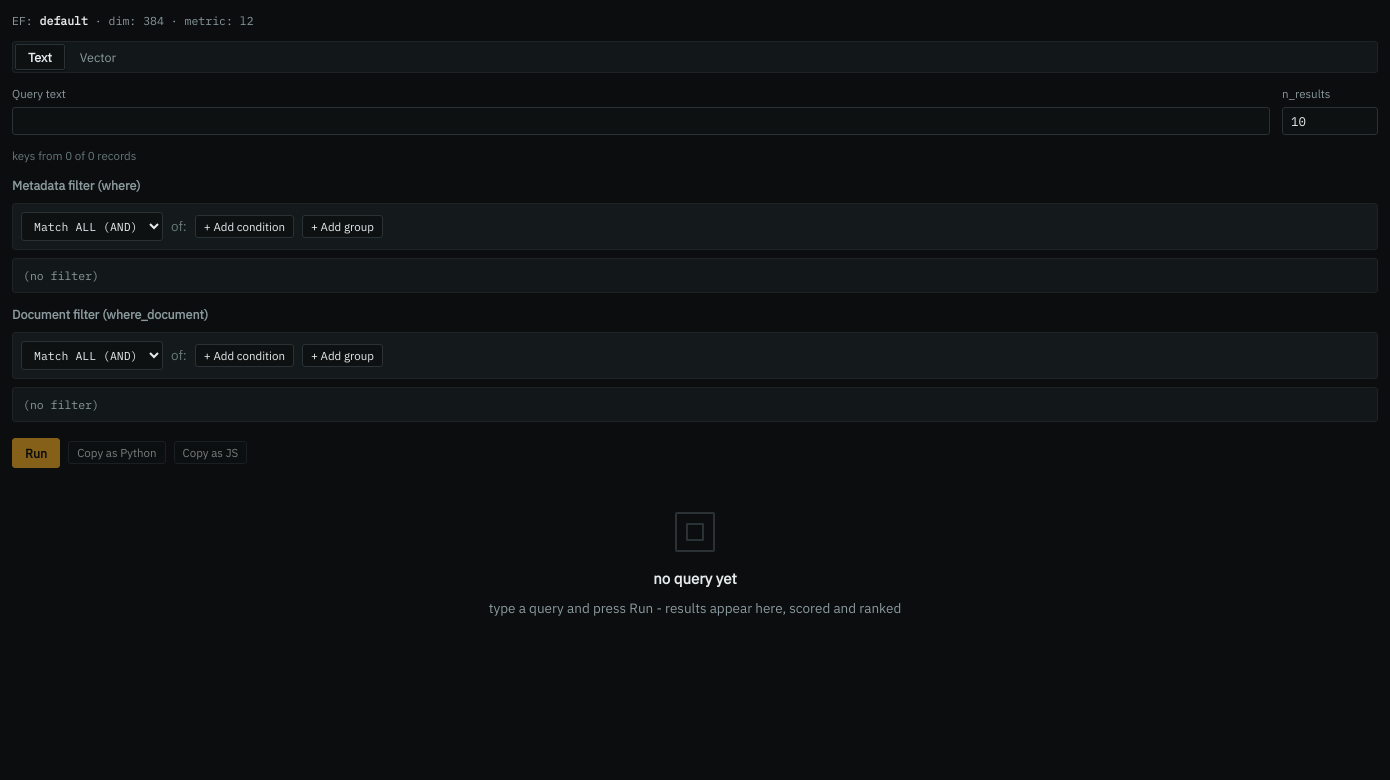
Test case: interprets a dimension-mismatch query error
Type "hello" into the field labelled "Query text".
click(641, 120); type("hello")  # box [12,106,1270,134]
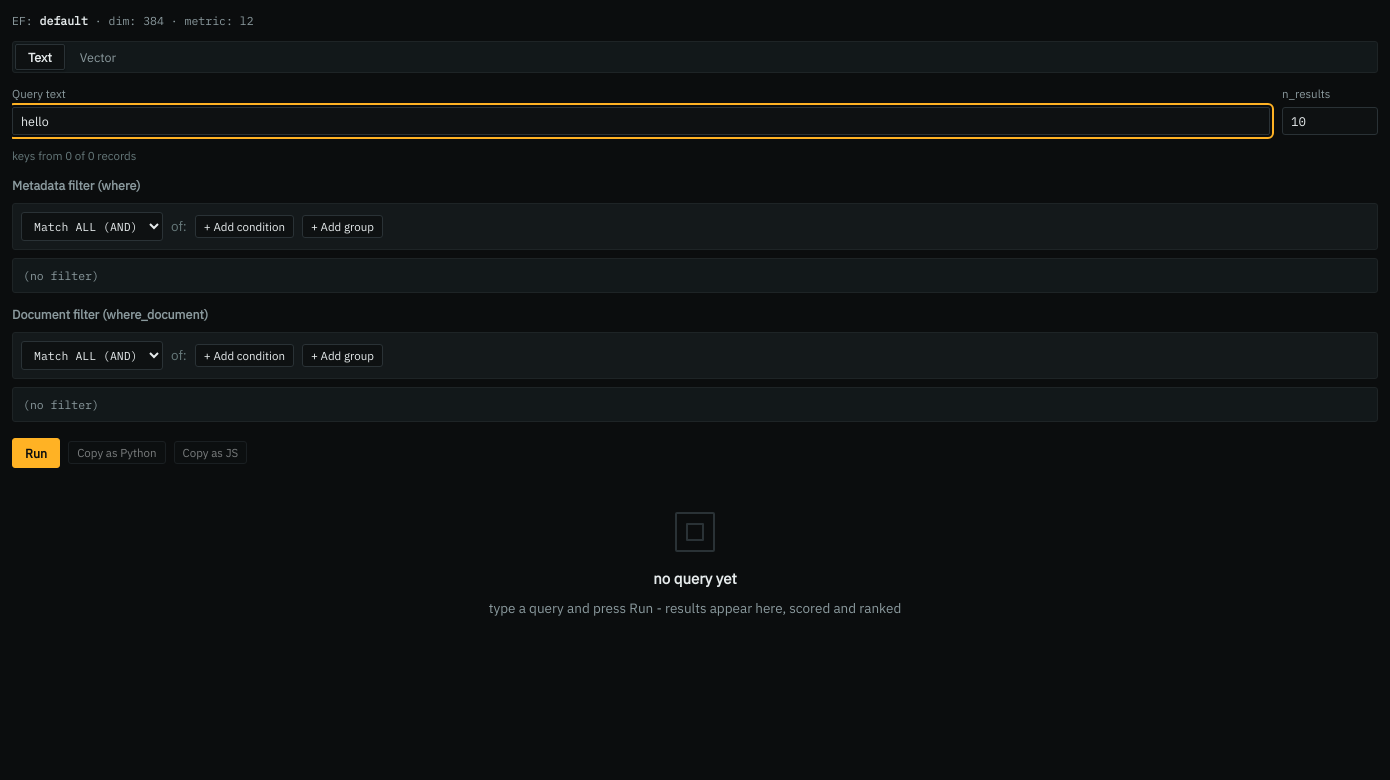
Click the button "Run".
click(36, 453)  # box [12,438,60,468]
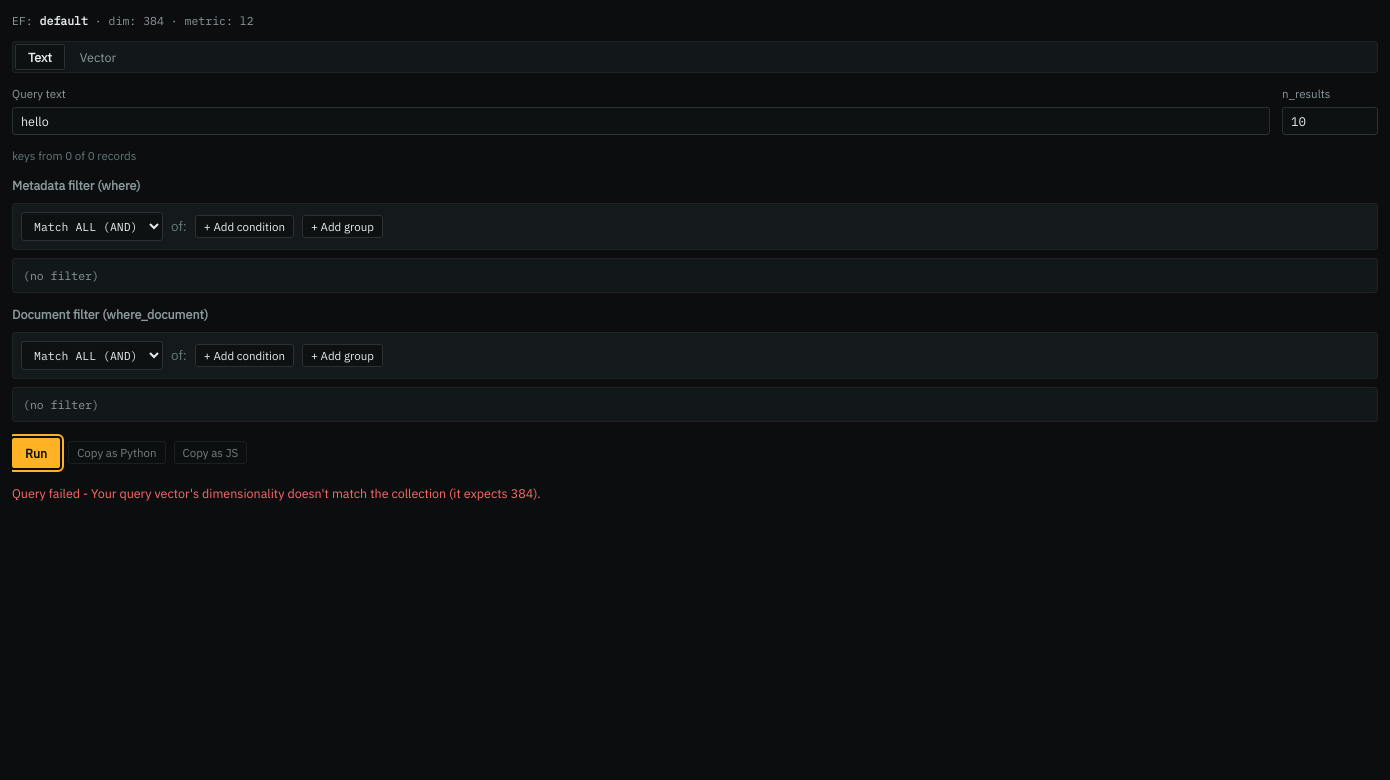
Result: the text "dimensionality" is shown at [91,485,541,501]
